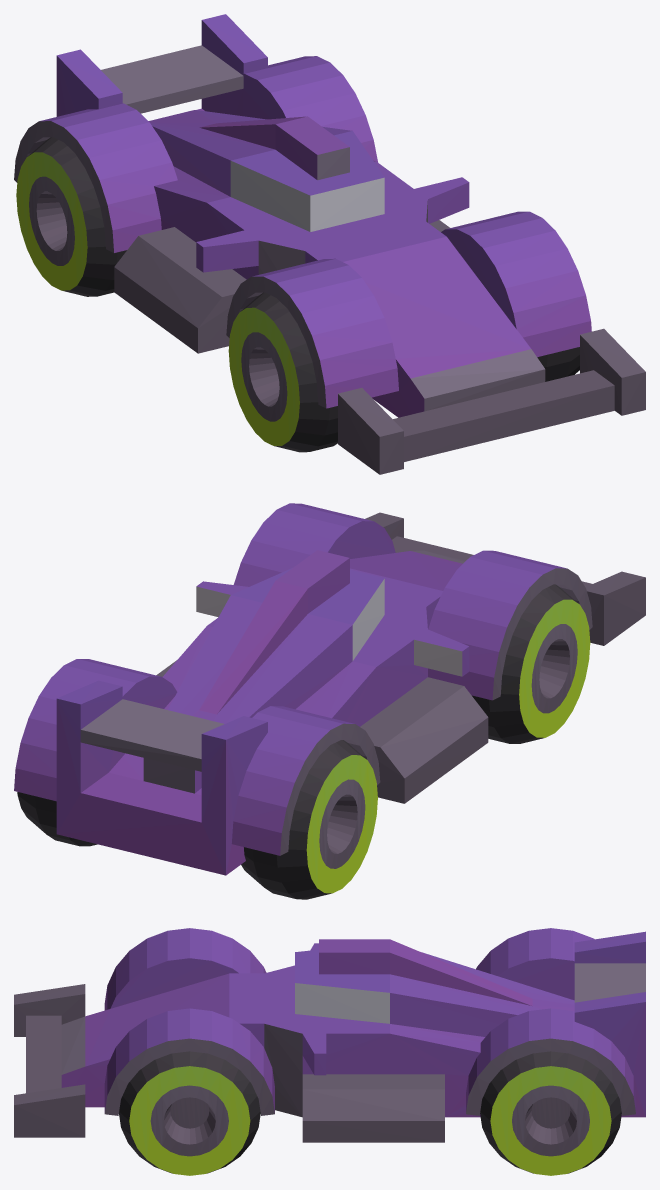
The model's file is rival_car_3.glb.
3 views of the same model, one above another, from view 1: azimuth 30°, elevation 25°; view 2: azimuth 150°, elevation 25°; view 3: azimuth 270°, elevation 25° (orthographic). The views are drawn at different scales.
Parts seen in each view (by area): view 1: rival_car_3; view 2: rival_car_3; view 3: rival_car_3.
Part boxes in pixels (left/top/right/bottom): rival_car_3: left=14, top=14, right=645, bottom=474; rival_car_3: left=14, top=503, right=645, bottom=899; rival_car_3: left=14, top=928, right=645, bottom=1175.
Size of the model in its own units: 1.8 by 1.25 by 4.
